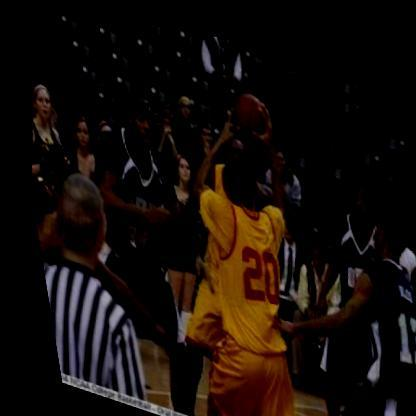basketball: (216, 75, 280, 140)
